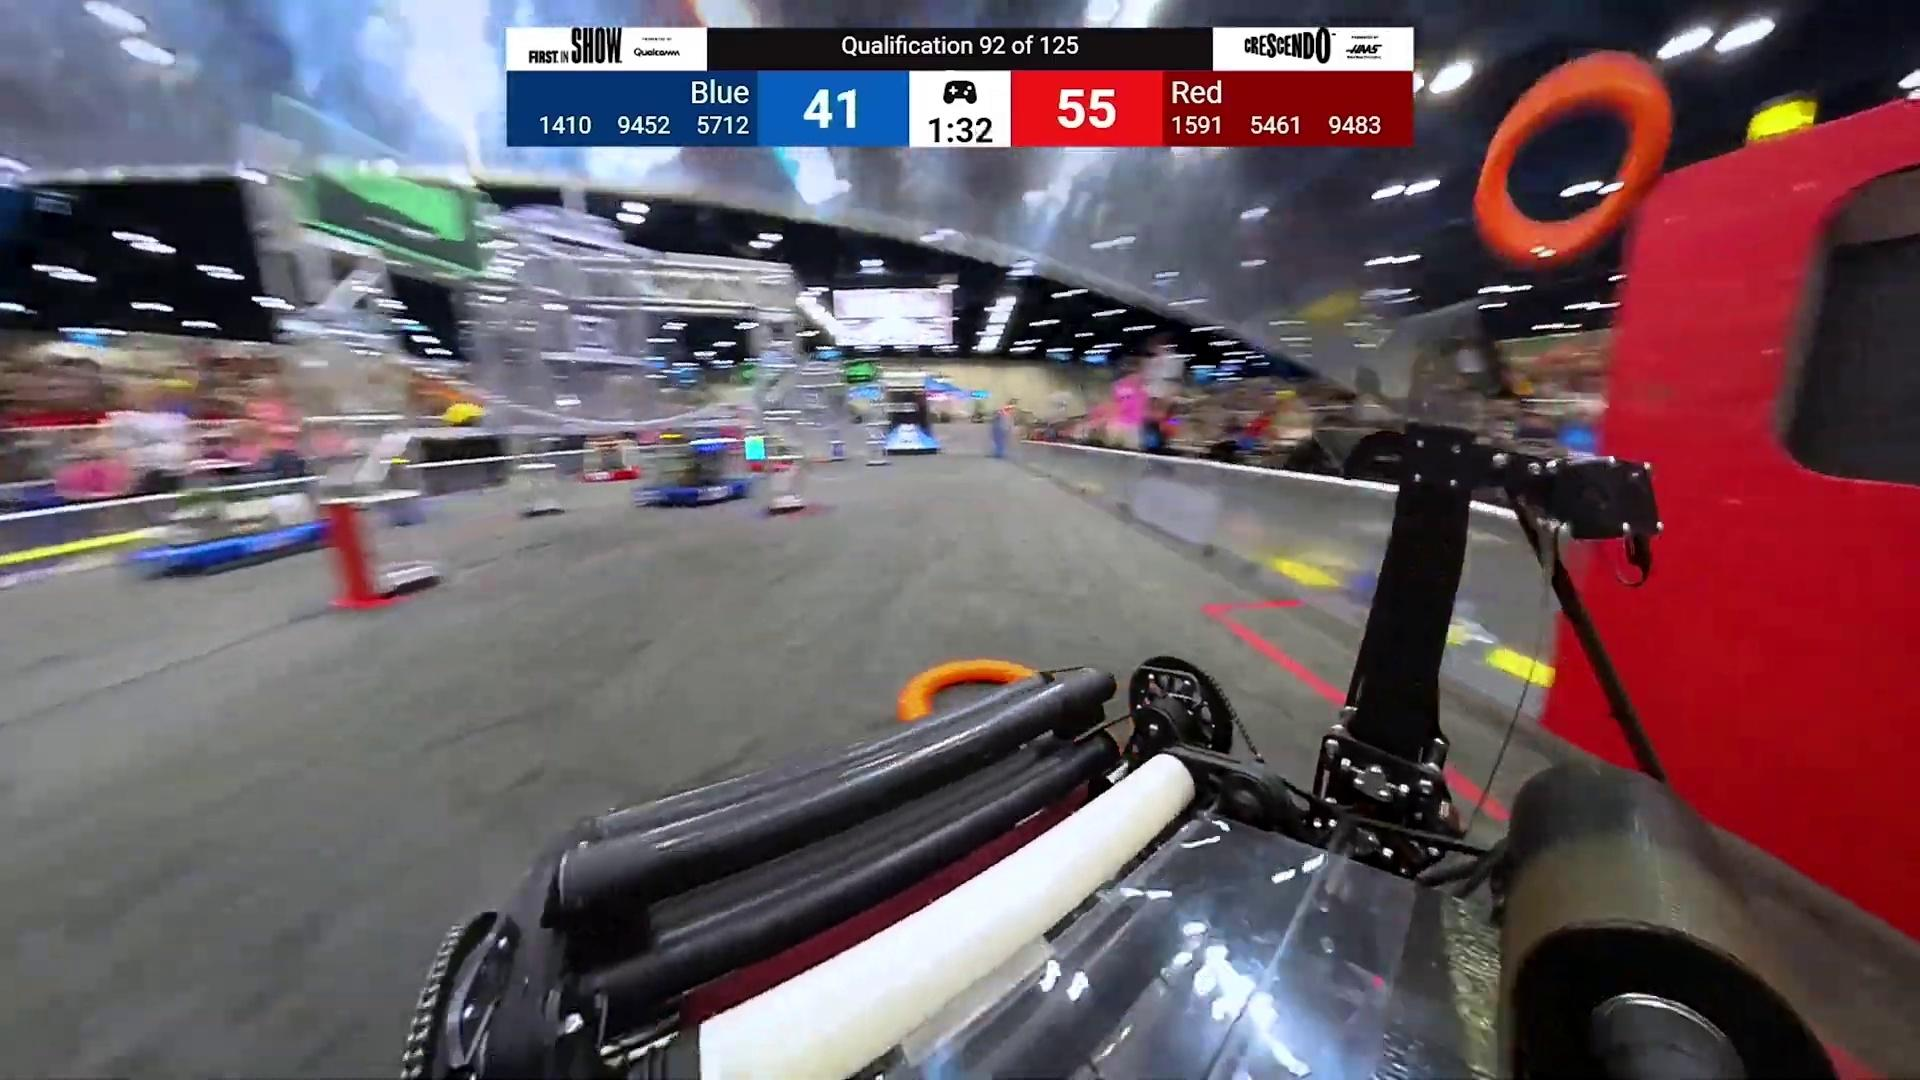robot: (121, 487, 325, 577), (634, 446, 748, 508), (580, 450, 640, 483), (747, 446, 792, 473)
